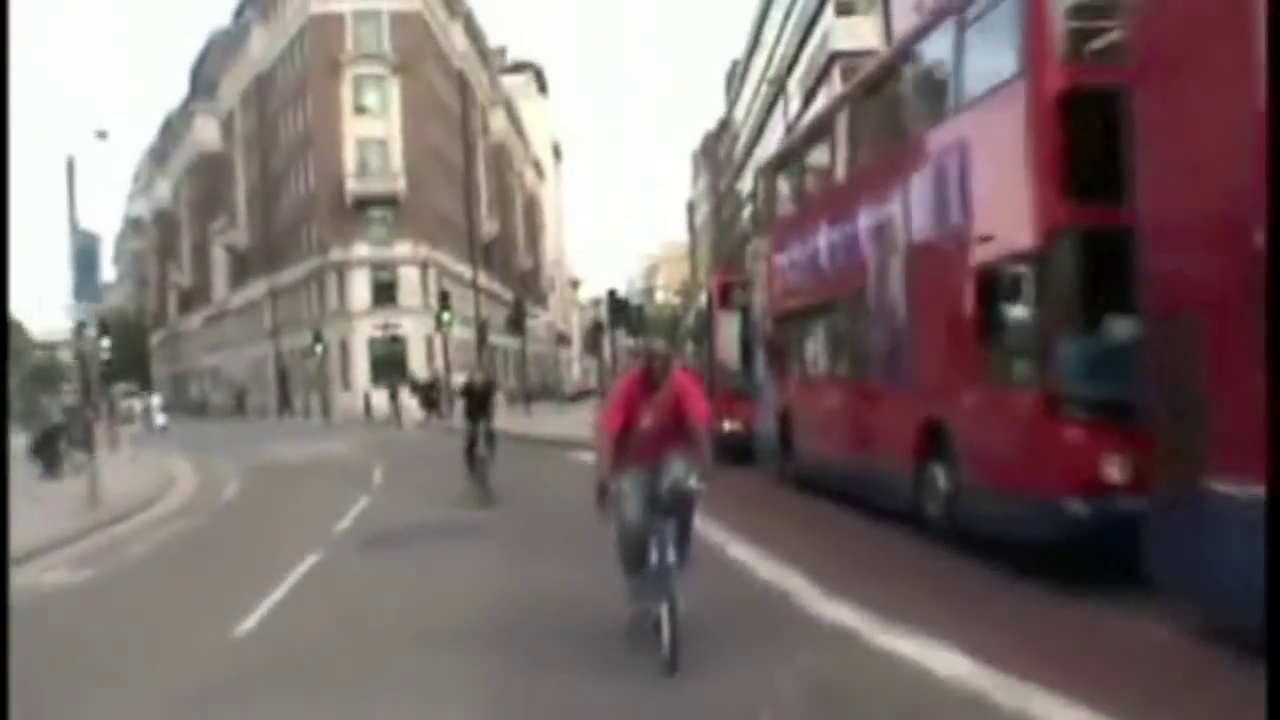cyclist_front: (593, 336, 716, 675), (455, 366, 508, 490)
